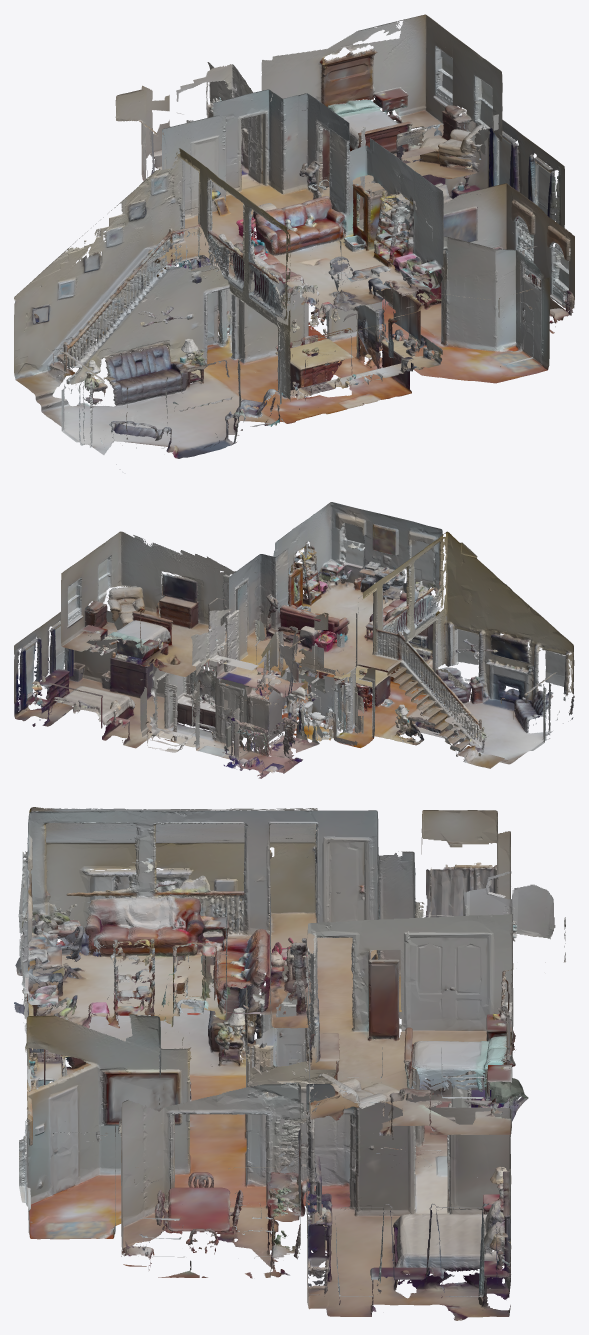
The model's file is hm3d_TEEsavR23oF.glb.
The picture shows the model from 3 angles, top to bottom: view 1: azimuth 30°, elevation 25°; view 2: azimuth 150°, elevation 25°; view 3: azimuth 270°, elevation 25°; orthographic projection. The views are drawn at different scales.
Visible parts, largest first — view 1: world; view 2: world; view 3: world.
Boxes of the visible parts, x1,y1,x2,y2 form: world: (14,14,574,469); world: (14,502,574,778); world: (14,807,565,1320).
Bounding box in the file's own units: 16.55 × 5.99 × 11.05.
